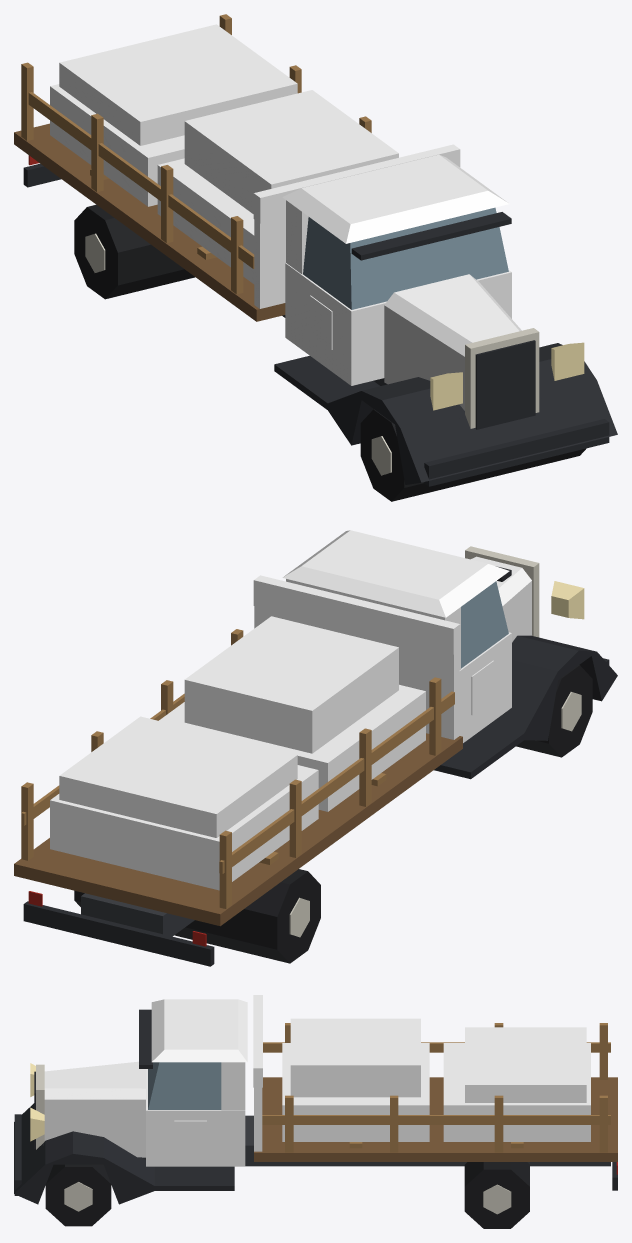
File: flatbed.glb
3 views of the same model, one above another, from view 1: azimuth 30°, elevation 25°; view 2: azimuth 150°, elevation 25°; view 3: azimuth 270°, elevation 25° (orthographic). The views are drawn at different scales.
Visible parts, largest first — view 1: model; view 2: model; view 3: model.
Boxes of the visible parts, x1,y1,x2,y2 form: model: (14,14,617,501); model: (14,530,617,966); model: (14,995,617,1228).
Bounding box in the file's own units: 2.52 × 2.6 × 8.51.
